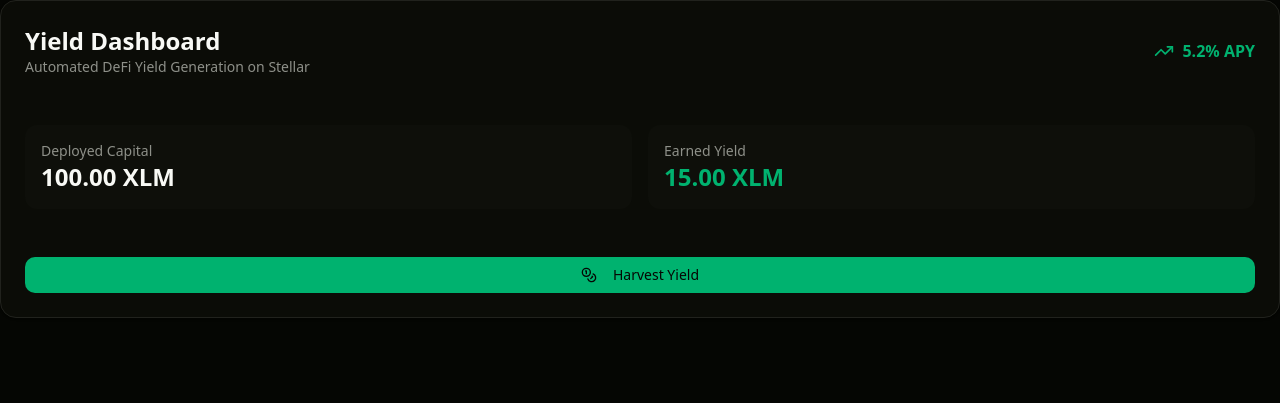
YieldDashboard Component › calls onHarvest handler when harvest button is clicked
Click the button "Harvest Yield" at (640, 275), box [25,257,1255,293]
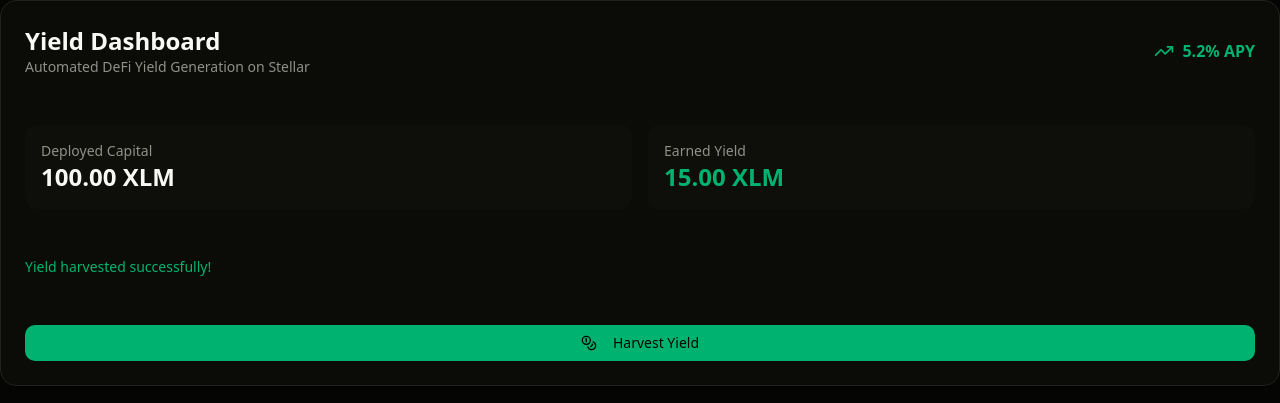
Check: the text "Yield harvested successfully!" is shown, box [25,257,211,276]
